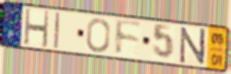5: (152, 23, 176, 63)
F: (114, 18, 143, 57)
H: (23, 7, 50, 49)
I: (53, 11, 62, 50)
N: (179, 27, 206, 67)
O: (85, 17, 112, 54)
